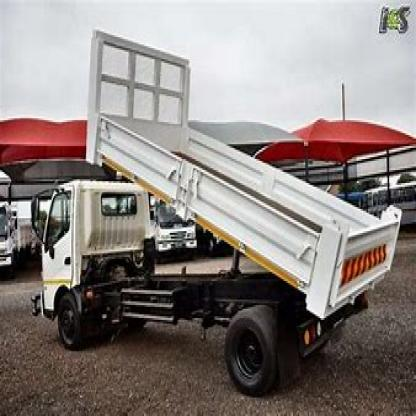dump_truck: (32, 24, 401, 392)
